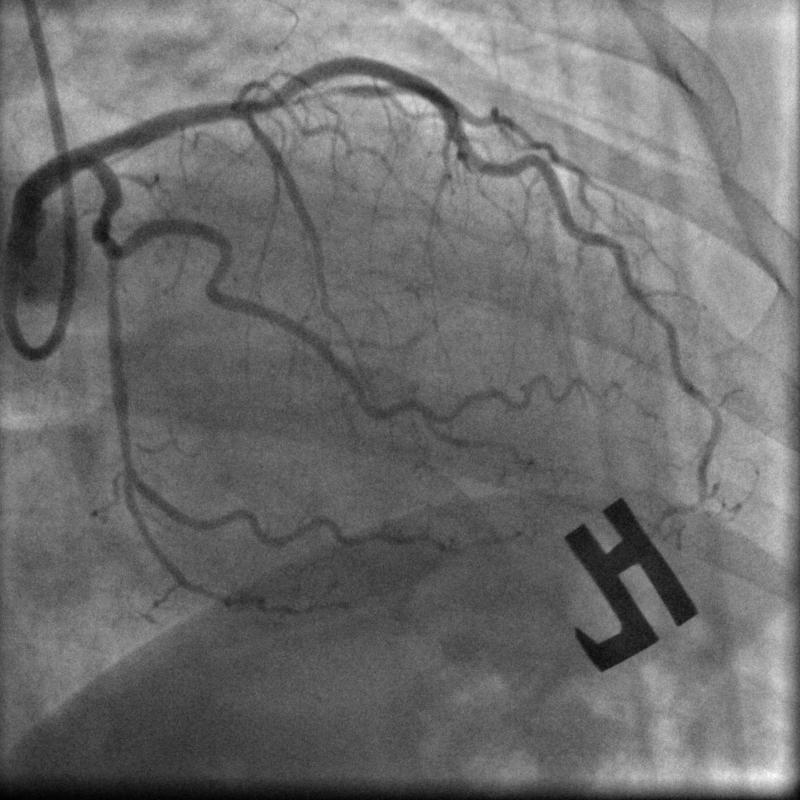Stenosis: (89, 197, 129, 257)
